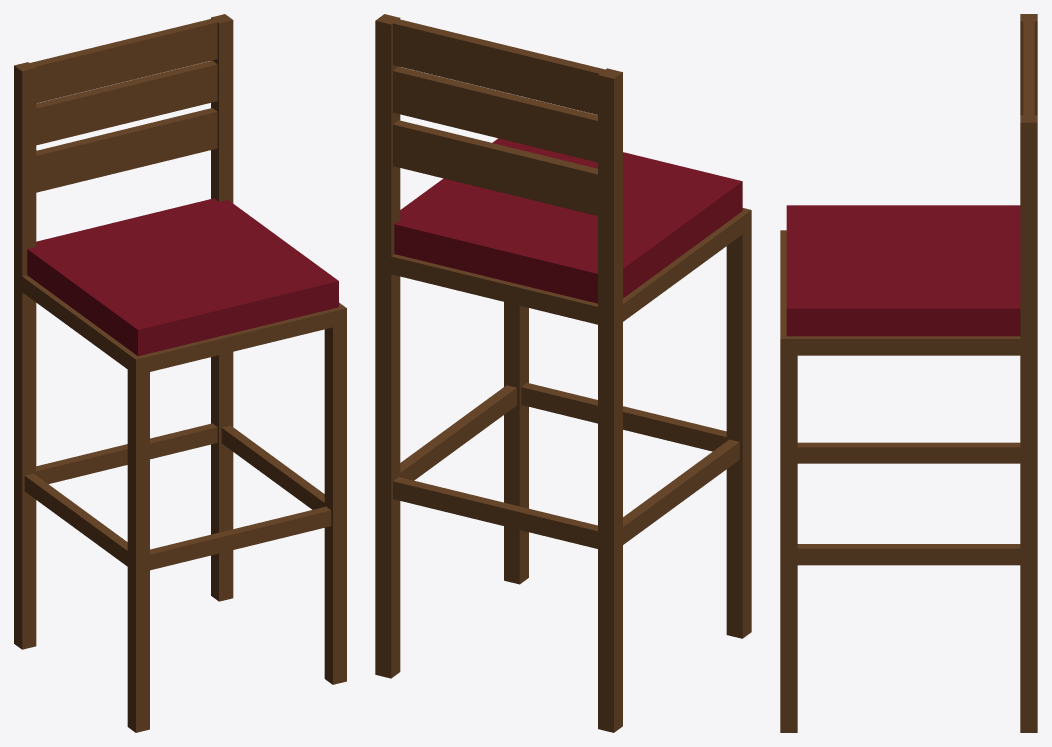
File: banco-4444.glb
The picture shows the model from 3 angles, left to right: view 1: azimuth 30°, elevation 25°; view 2: azimuth 150°, elevation 25°; view 3: azimuth 270°, elevation 25°; orthographic projection. The views are drawn at different scales.
Visible parts, largest first — view 1: banco-4444; view 2: banco-4444; view 3: banco-4444.
Boxes of the visible parts, <box> form: banco-4444: <box>14,14,346,732</box>; banco-4444: <box>375,14,751,732</box>; banco-4444: <box>780,14,1037,732</box>.
Size of the model in its own units: 0.42 by 1.1 by 0.42.
